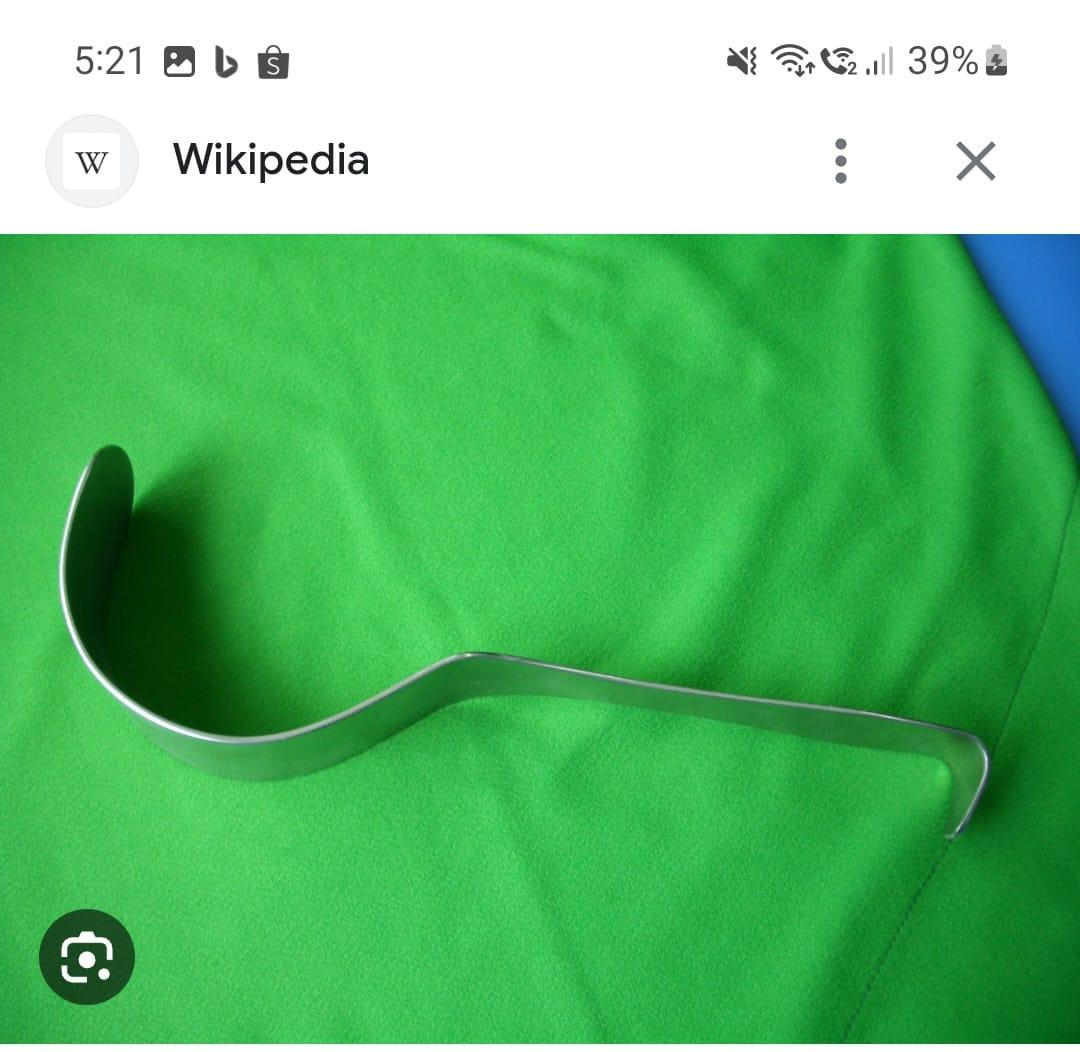Deaver Retractor: (35, 425, 1013, 867)
